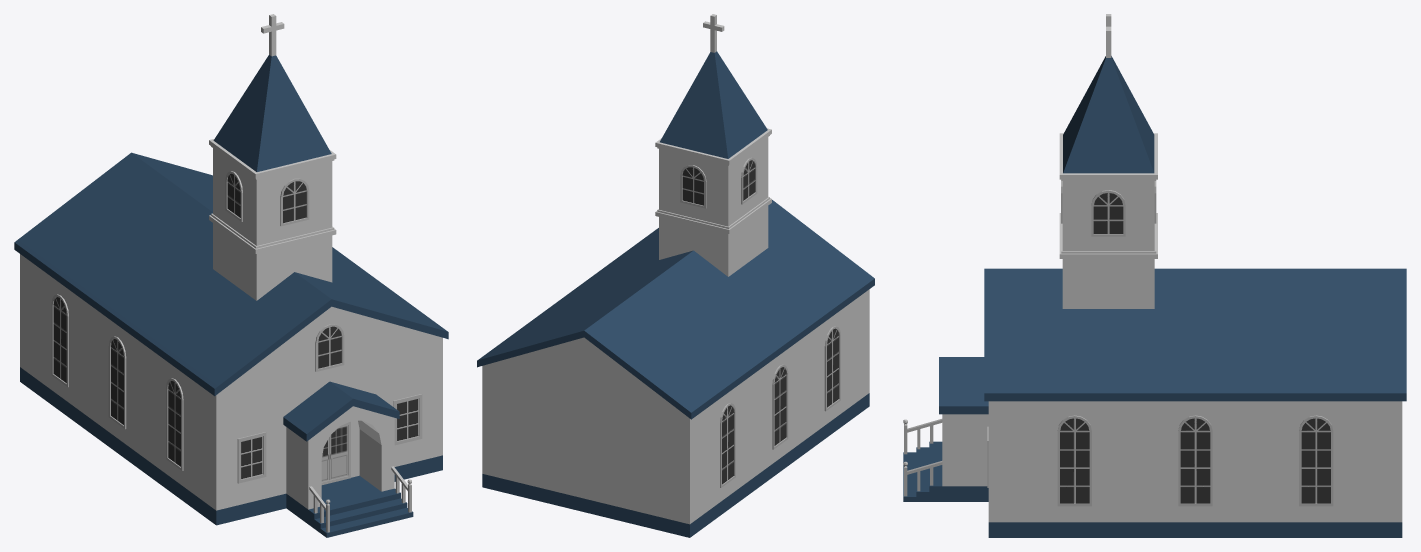
File: spb-church.glb
3 renders of one model, left to right at view 1: azimuth 30°, elevation 25°; view 2: azimuth 150°, elevation 25°; view 3: azimuth 270°, elevation 25°, orthographic. The views are drawn at different scales.
Visible parts, largest first — view 1: SPB_Church; view 2: SPB_Church; view 3: SPB_Church.
Part boxes in pixels (x1,y1,x2,y2): SPB_Church: [14, 14, 448, 537]; SPB_Church: [477, 14, 874, 537]; SPB_Church: [903, 14, 1406, 537].
Bounding box in the file's own units: 13.2 × 23.78 × 23.36.
Materials: 1 (1 with a texture image).
